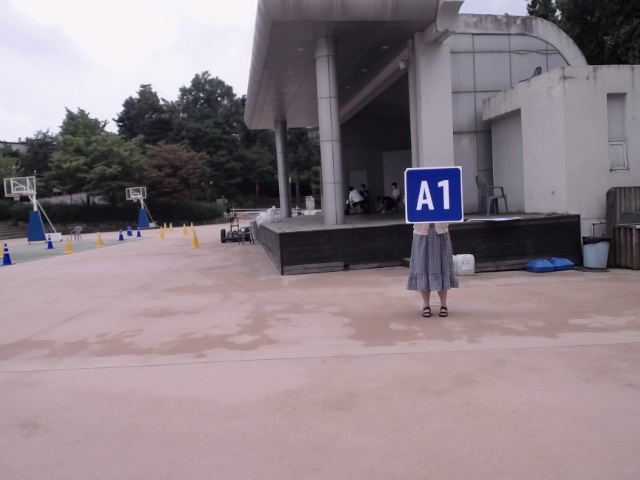delivery_a1: (405, 168, 463, 223)
